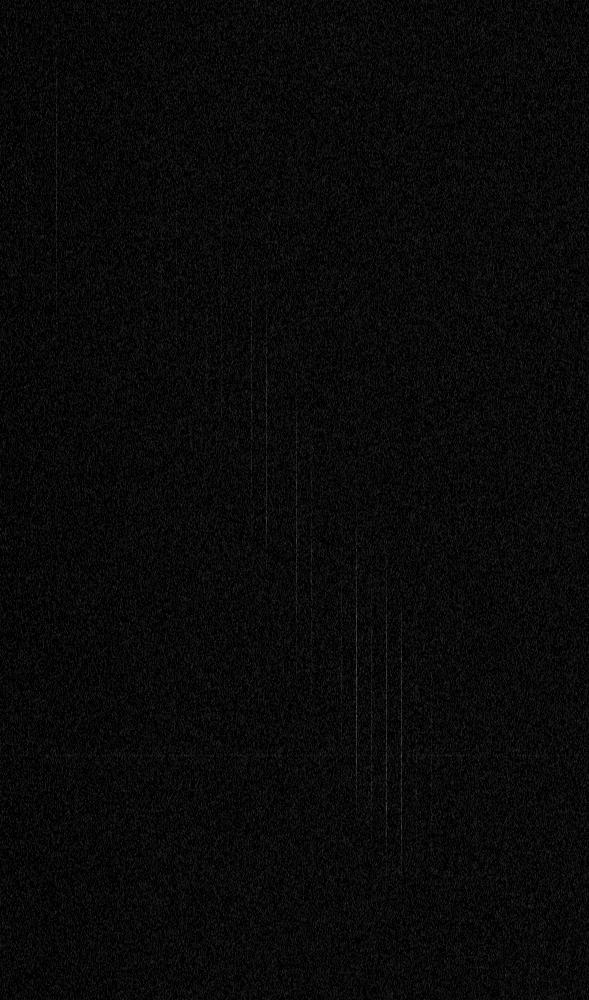signal: (0, 0, 588, 999)
